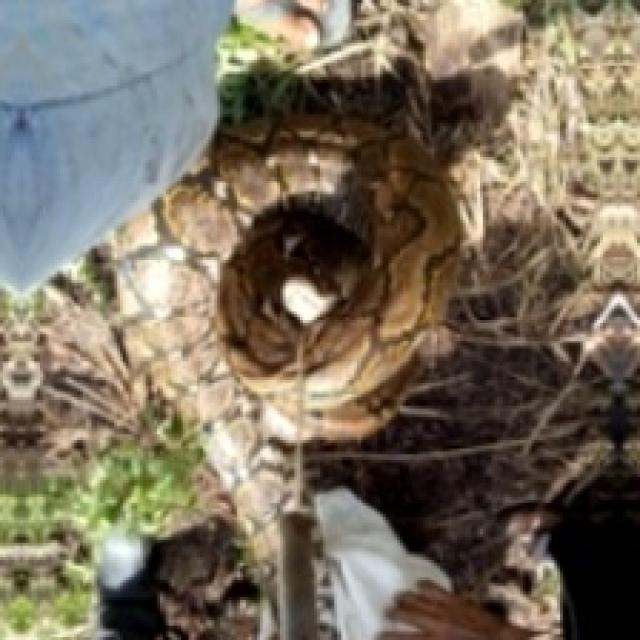reticulated python: (111, 41, 461, 591), (315, 530, 320, 558)
